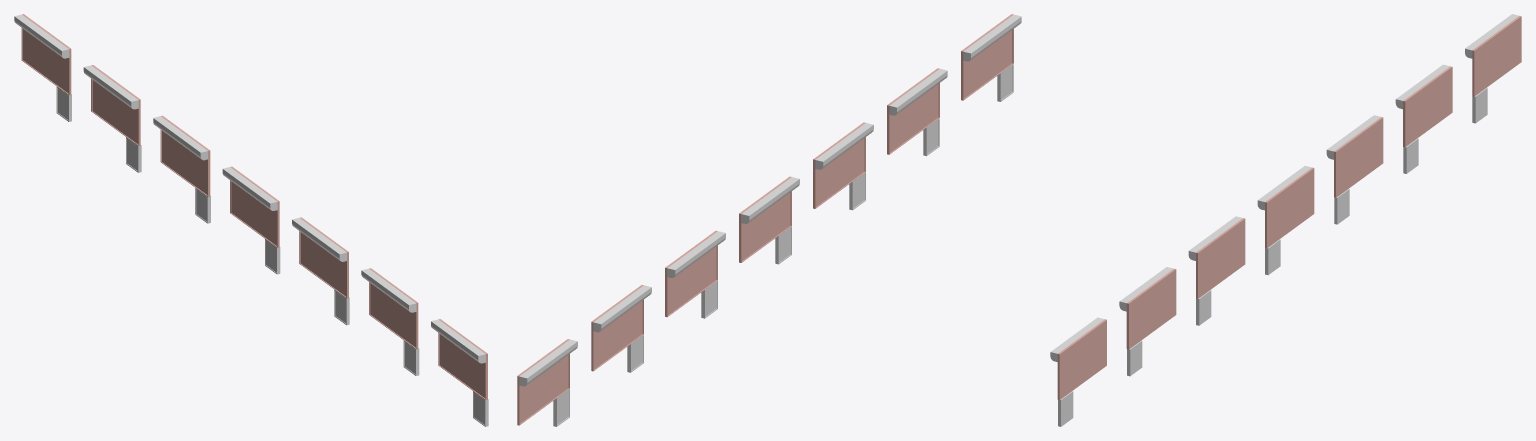
File: tindahan.fbx
The picture shows the model from 3 angles, left to right: view 1: azimuth 30°, elevation 25°; view 2: azimuth 150°, elevation 25°; view 3: azimuth 330°, elevation 25°; orthographic projection. The views are drawn at different scales.
Parts seen in each view (by area): view 1: Cube.015; view 2: Cube.015; view 3: Cube.015.
Boxes of the visible parts, x1,y1,x2,y2 form: Cube.015: (14,14,488,426); Cube.015: (517,14,1021,426); Cube.015: (1050,14,1521,426).
Bounding box in the file's own units: 137 × 909 × 10477.
